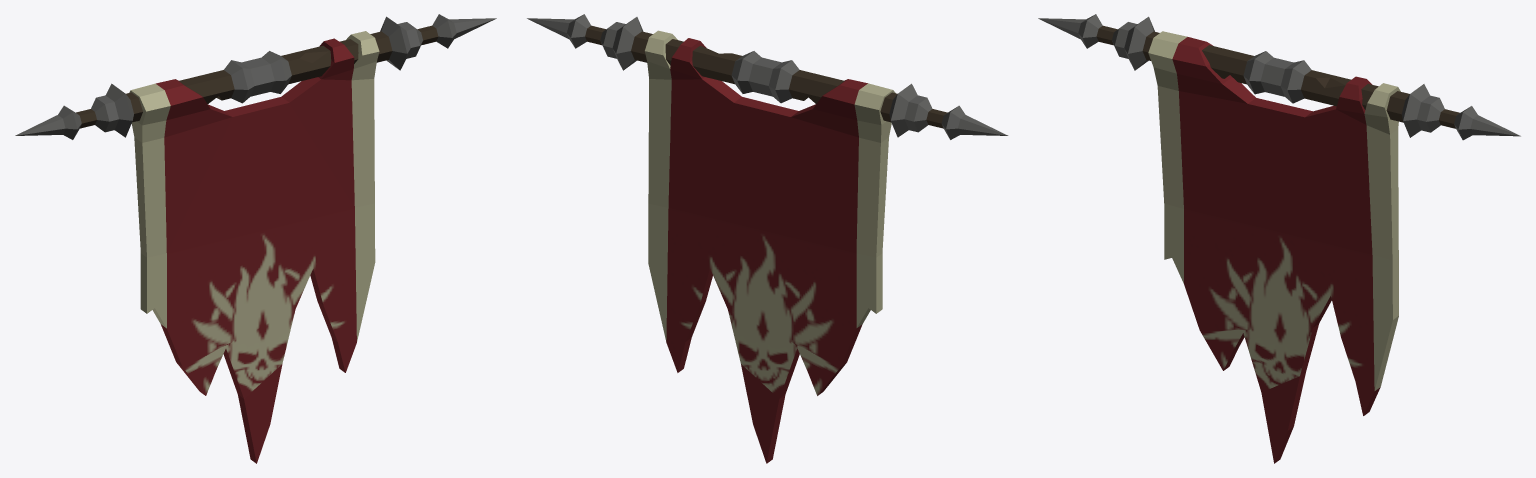
Rendered from crypt_flag_torn.gltf.
The picture shows the model from 3 angles, left to right: view 1: azimuth 30°, elevation 25°; view 2: azimuth 150°, elevation 25°; view 3: azimuth 330°, elevation 25°; orthographic projection.
Parts seen in each view (by area): view 1: crypt_flag_torn; view 2: crypt_flag_torn; view 3: crypt_flag_torn.
Boxes of the visible parts, x1,y1,x2,y2 form: crypt_flag_torn: (15,14,496,463); crypt_flag_torn: (527,14,1008,463); crypt_flag_torn: (1038,14,1520,463).
Size of the model in its own units: 2.16 by 1.74 by 0.2178.
1 material, 1 textured.
